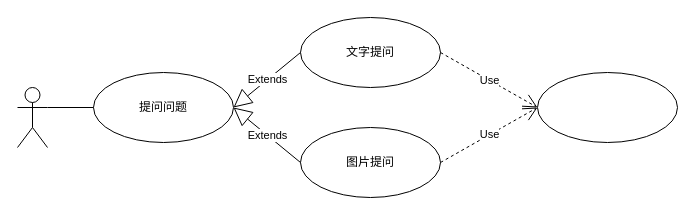
The diagram is 695 pixels wide and 215 high, and some of its shapes have lost their labels. Here are the shapes that lost their labels. From the top down, the box of each, then its label:
(16, 86, 48, 148): Actor
(536, 72, 678, 142): 返回结果
